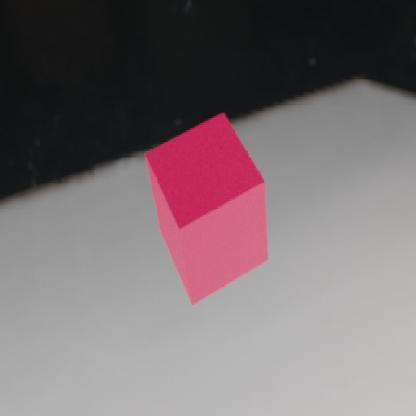cube: (144, 111, 268, 305)
